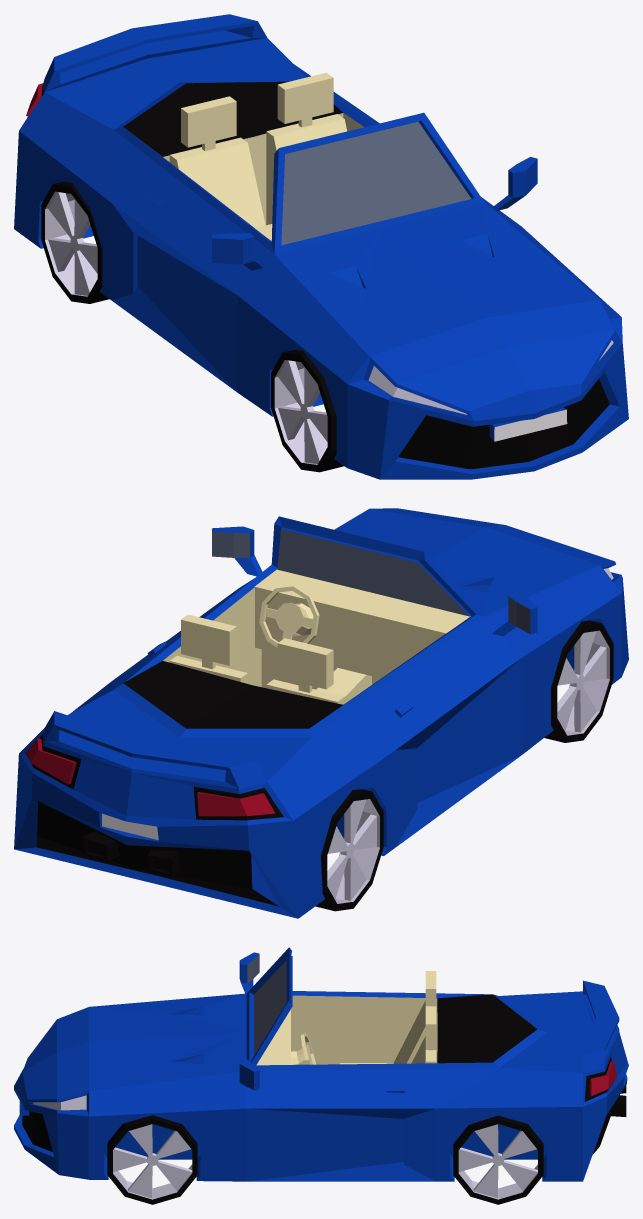
Rendered from rgs-Roadster.glb.
The picture shows the model from 3 angles, top to bottom: view 1: azimuth 30°, elevation 25°; view 2: azimuth 150°, elevation 25°; view 3: azimuth 270°, elevation 25°; orthographic projection. The views are drawn at different scales.
Visible parts, largest first — view 1: Roadster, Roadster wheel front right, Roadster wheel rear right; view 2: Roadster, Roadster wheel front right, Roadster wheel rear right; view 3: Roadster, Roadster wheel front left, Roadster wheel rear left.
Part boxes in pixels (x1=…): Roadster: x1=14, y1=14, x2=628, y2=479; Roadster wheel front right: x1=271, y1=349, x2=343, y2=472; Roadster wheel rear right: x1=41, y1=181, x2=109, y2=303; Roadster: x1=14, y1=508, x2=628, y2=918; Roadster wheel front right: x1=544, y1=620, x2=613, y2=742; Roadster wheel rear right: x1=315, y1=789, x2=383, y2=911; Roadster: x1=14, y1=947, x2=628, y2=1181; Roadster wheel front left: x1=107, y1=1115, x2=197, y2=1204; Roadster wheel rear left: x1=453, y1=1115, x2=543, y2=1204.
Size of the model in its own units: 2.63 by 1.84 by 5.73.
